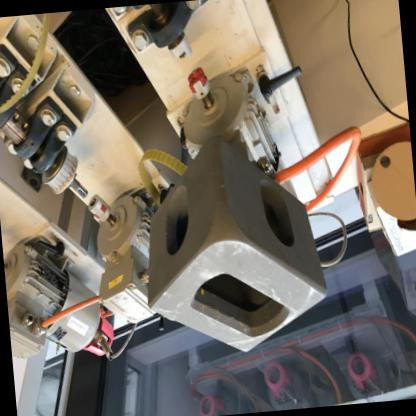CornerCasting: (134, 127, 336, 366)
